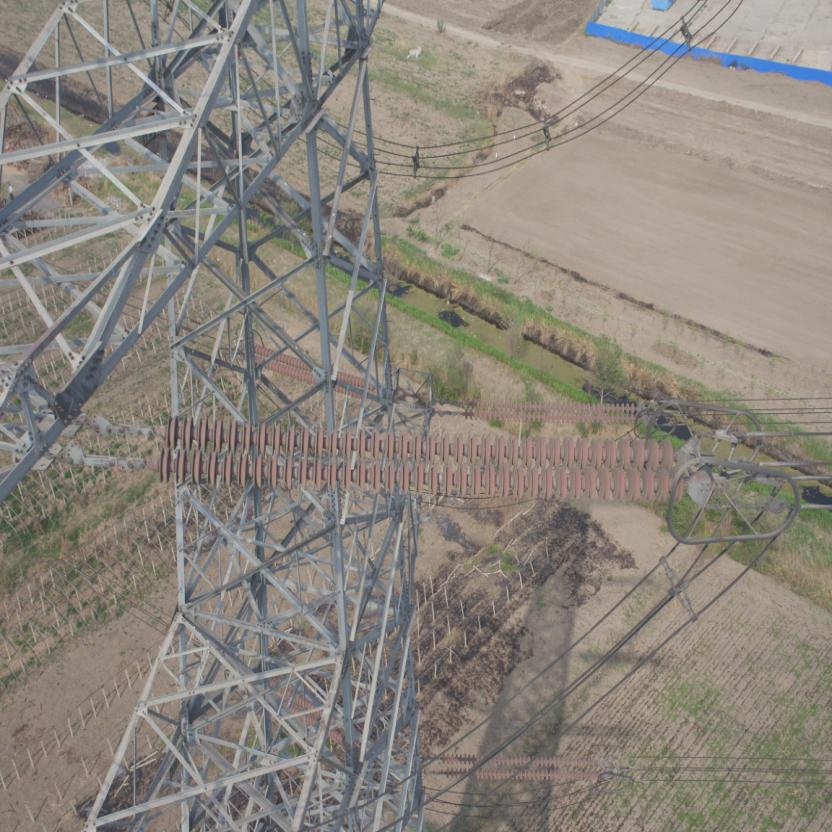insulator: (114, 408, 691, 506), (249, 344, 376, 400), (432, 747, 599, 779), (453, 397, 639, 422)
